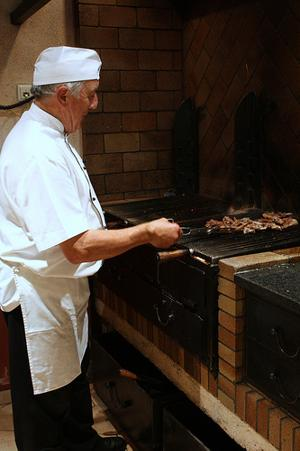person: (1, 49, 180, 451)
